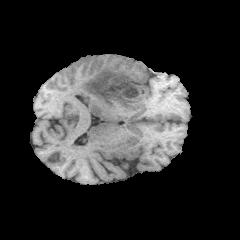glioma: (77, 60, 152, 107)
